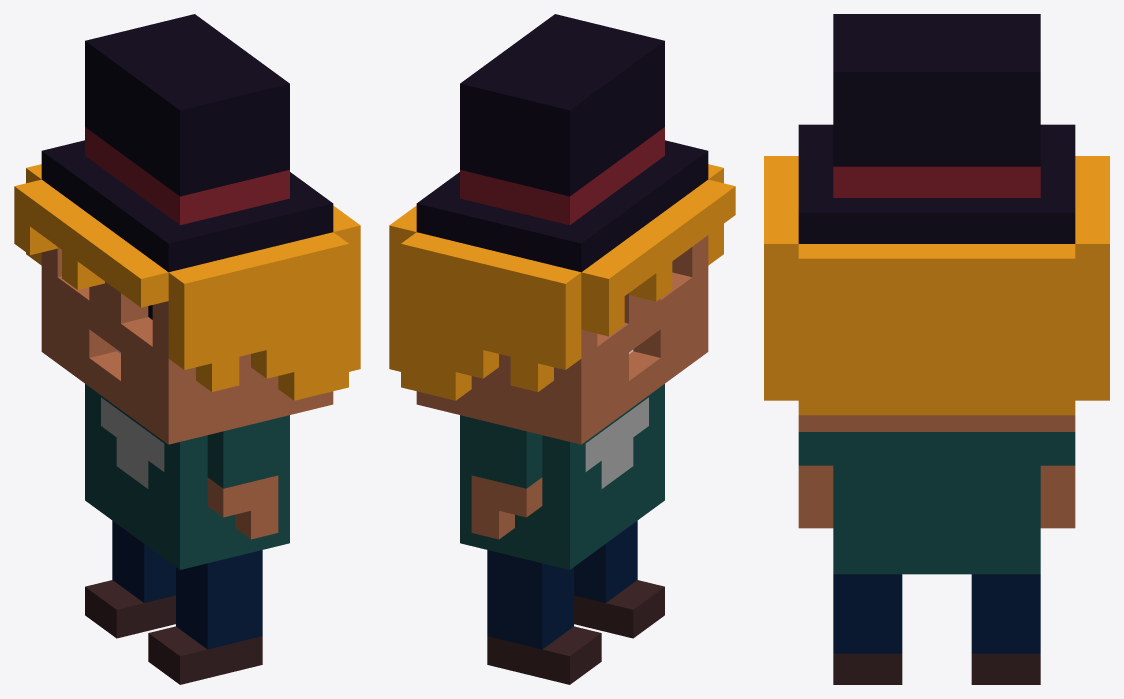
File: Char03.obj
The picture shows the model from 3 angles, left to right: view 1: azimuth 30°, elevation 25°; view 2: azimuth 150°, elevation 25°; view 3: azimuth 270°, elevation 25°; orthographic projection. The views are drawn at different scales.
Bounding box in the file's own units: 0.8 × 2 × 1.
Materials: 1 (1 with a texture image).
